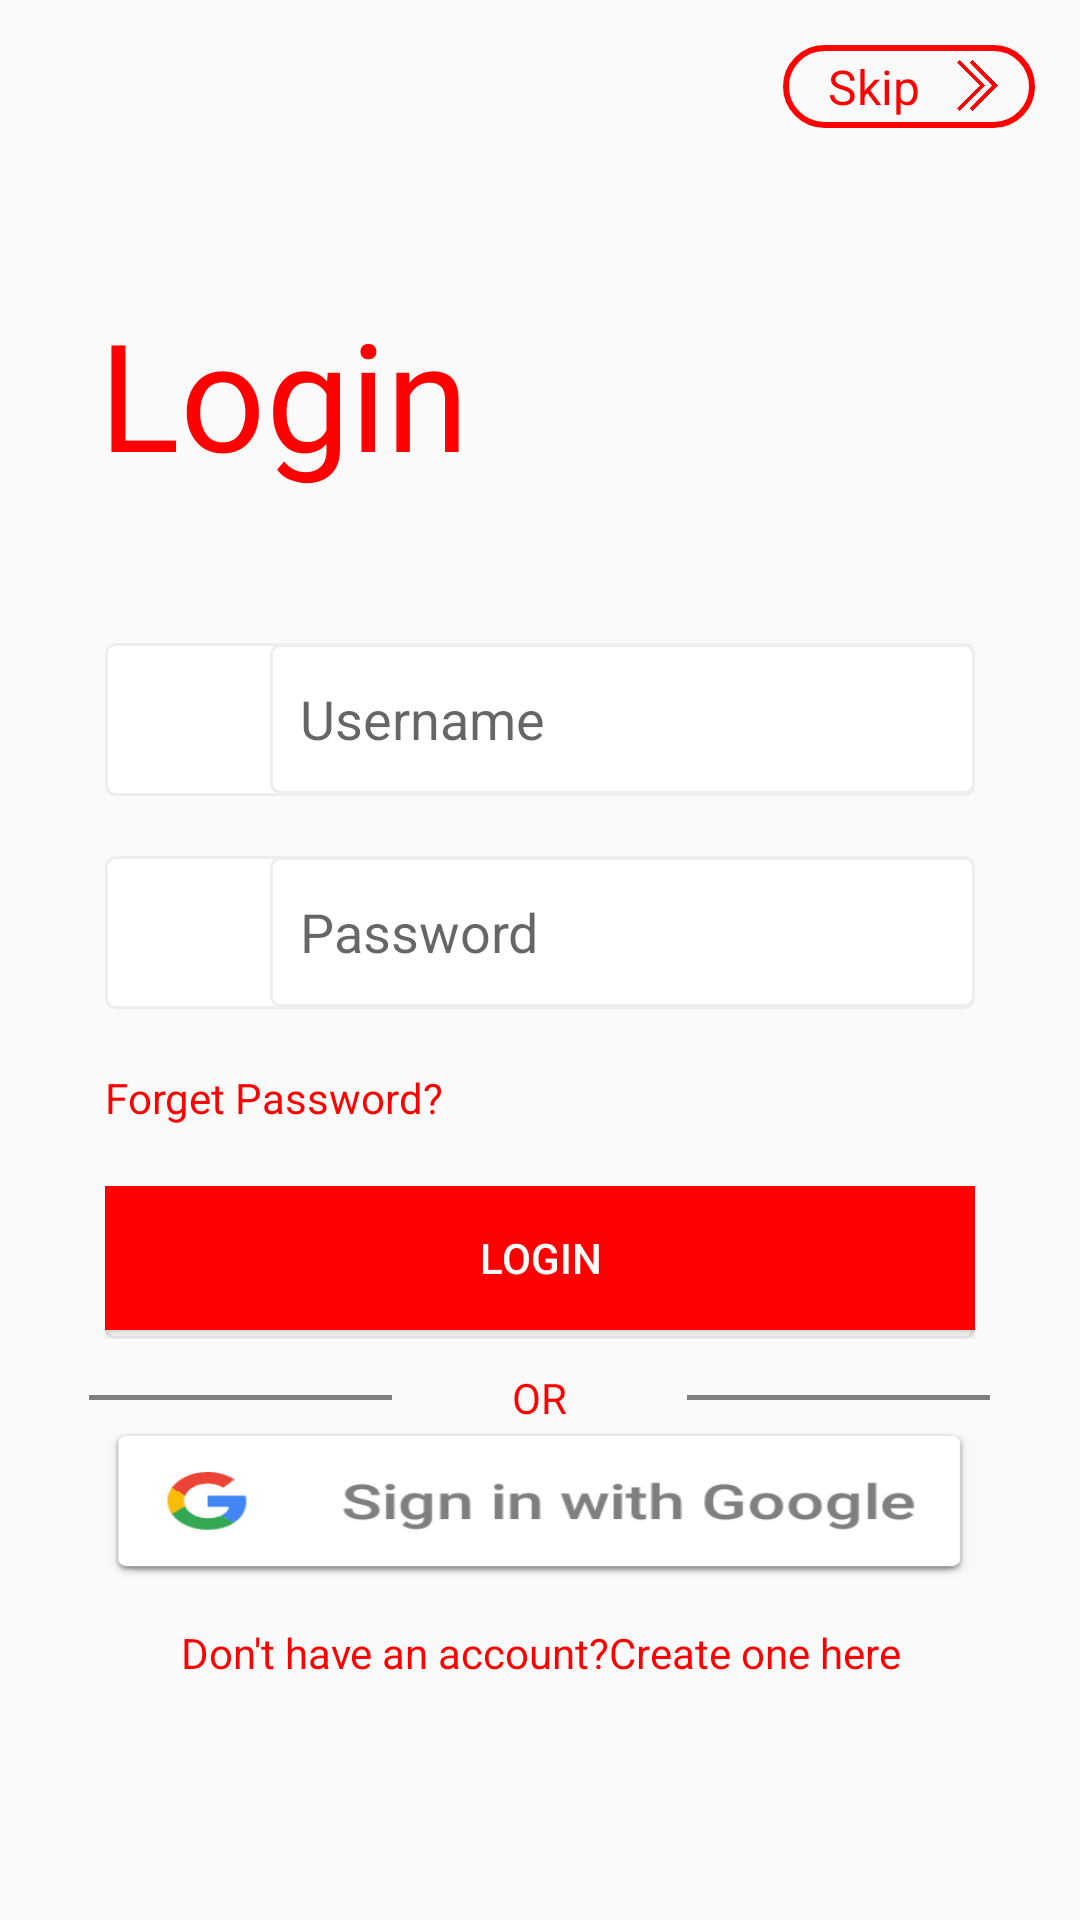

Where to tap for icons on this 1080×1920 app screen, as point (x, y):
right: point (977, 85)
